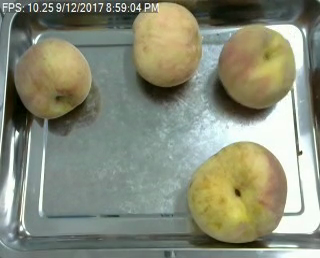Peach: (187, 140, 287, 242), (217, 25, 297, 109), (13, 38, 90, 119), (131, 0, 201, 88)
